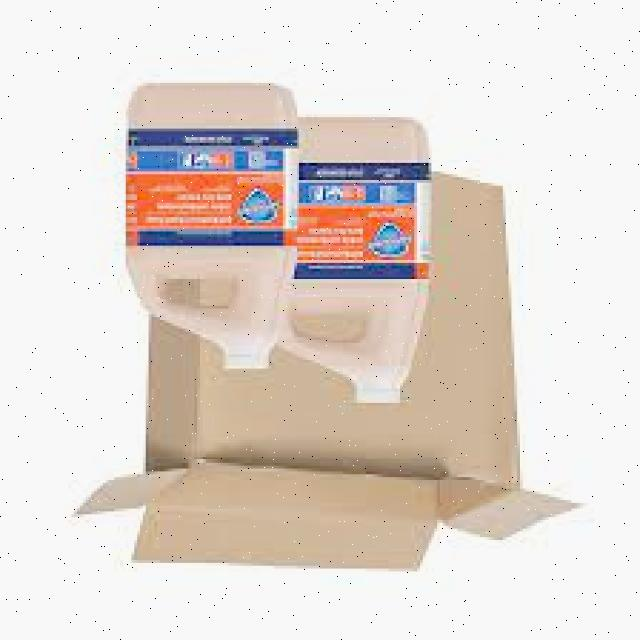liquid soap: (114, 70, 301, 380), (271, 112, 440, 414)
